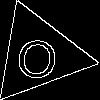O: (13, 29, 62, 81)
